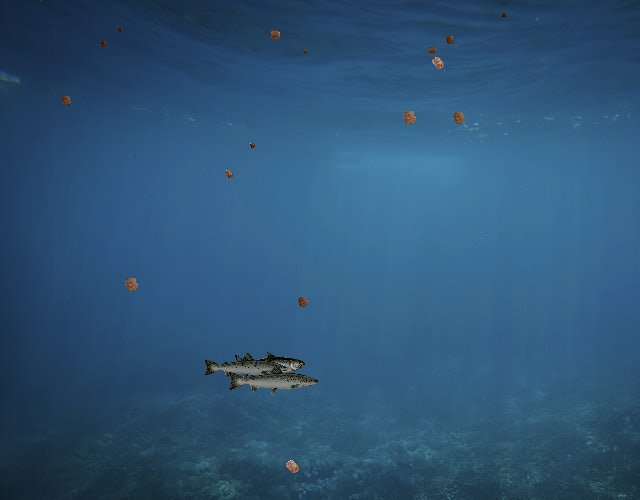Fish: (227, 363, 321, 397), (202, 351, 288, 382), (233, 351, 306, 377)
Pellet: (278, 452, 306, 480), (117, 270, 145, 298), (424, 50, 451, 77), (446, 105, 472, 131), (292, 291, 314, 313), (220, 165, 238, 183), (246, 140, 258, 152)
